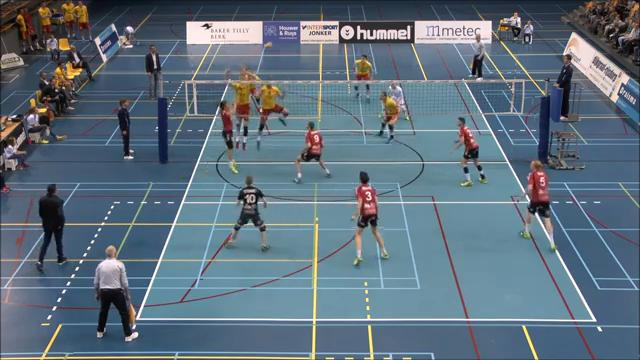attacco: (212, 84, 243, 175)
muro: (225, 65, 258, 154), (254, 74, 288, 151)
